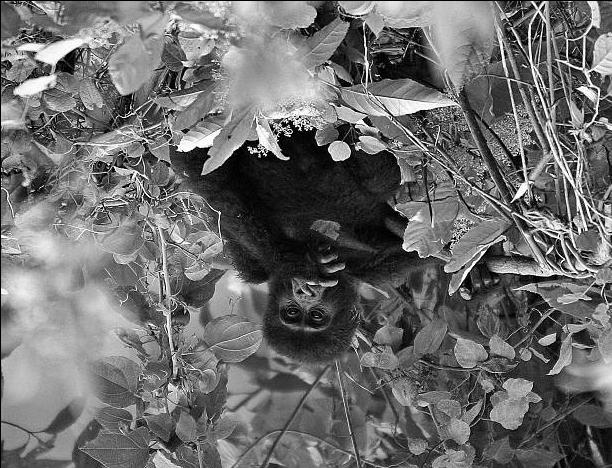goriile_montagne: (138, 95, 500, 400)
